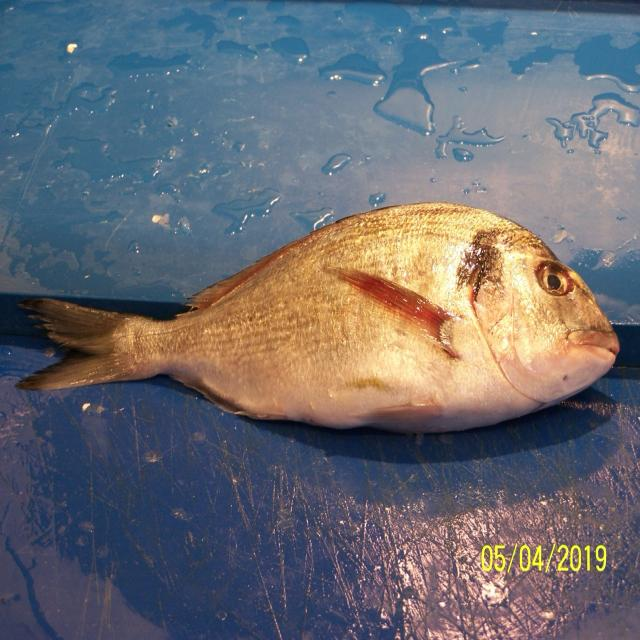Gilt-Head-Bream-c-ipura-: (14, 202, 620, 437)
